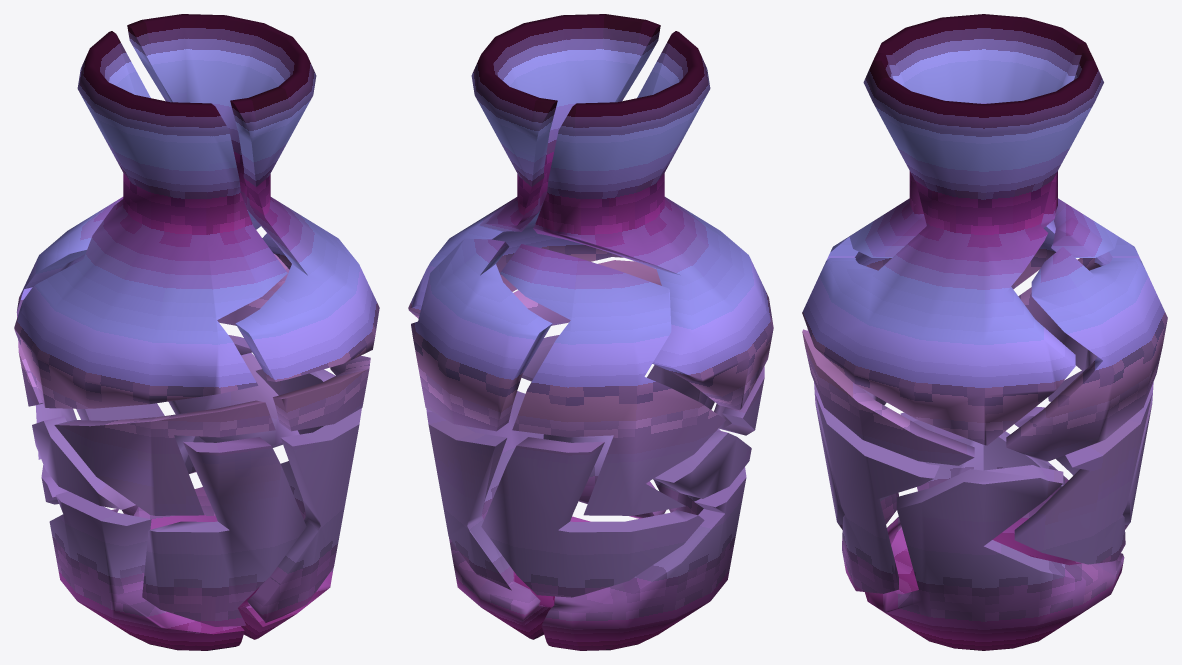
File: JAR_DESTRUCT.fbx
3 views of the same model, side by side, from view 1: azimuth 30°, elevation 25°; view 2: azimuth 150°, elevation 25°; view 3: azimuth 270°, elevation 25° (orthographic).
Parts seen in each view (by area): view 1: JAR_DESTRUCT; view 2: JAR_DESTRUCT; view 3: JAR_DESTRUCT.
Part boxes in pixels (x1,y1,x2,y2): JAR_DESTRUCT: [14, 14, 379, 650]; JAR_DESTRUCT: [408, 14, 773, 650]; JAR_DESTRUCT: [802, 14, 1167, 650].
Bounding box in the file's own units: 3049 × 5240 × 3030.
Materials: 1 (1 with a texture image).
